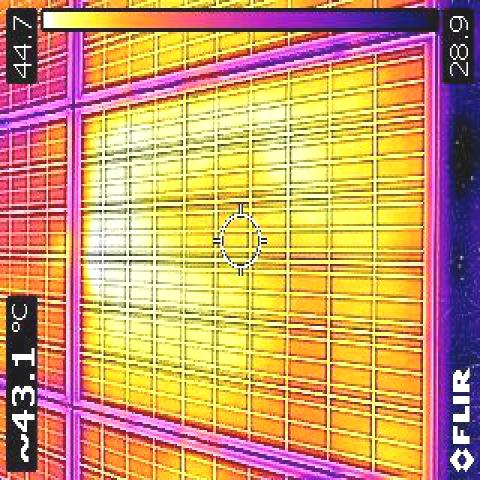fault: (88, 147, 132, 311)
